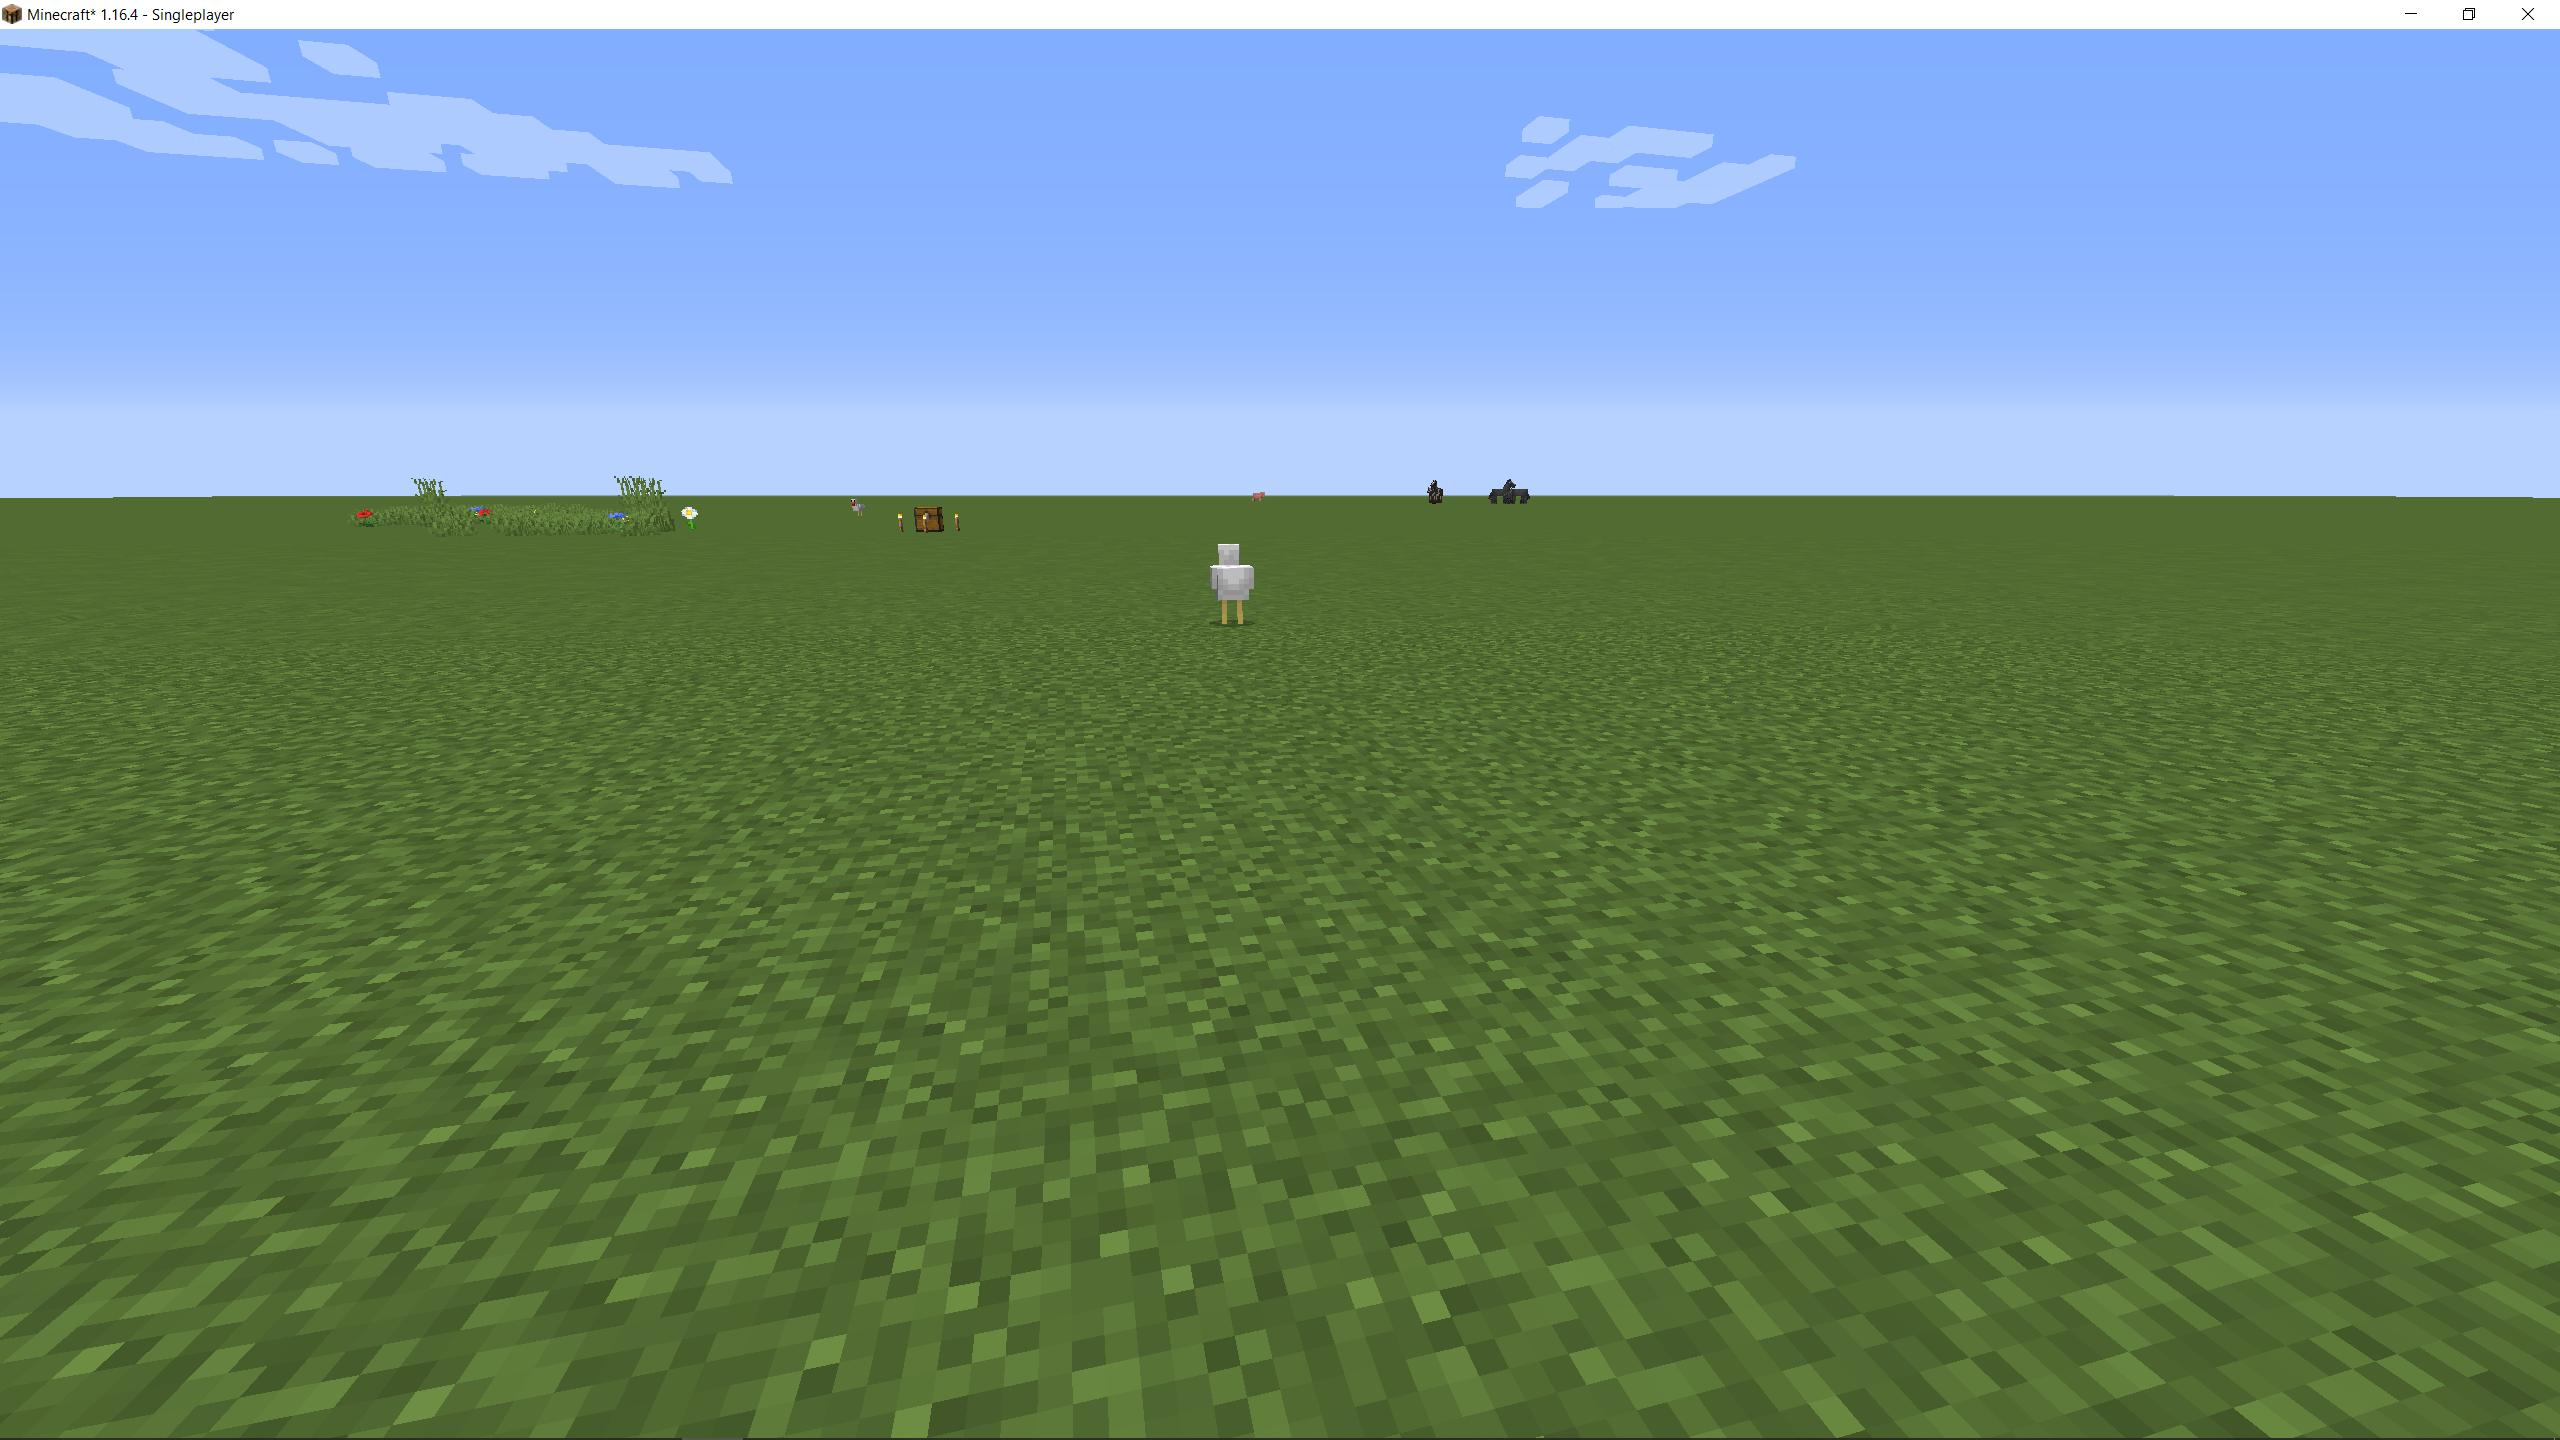chicken: (1204, 542, 1261, 626)
